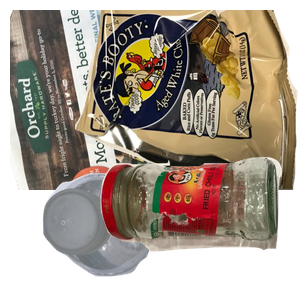glass: (98, 155, 300, 300)
paper: (10, 10, 250, 190)
plastic: (40, 170, 187, 300)
trash: (75, 10, 300, 190)
